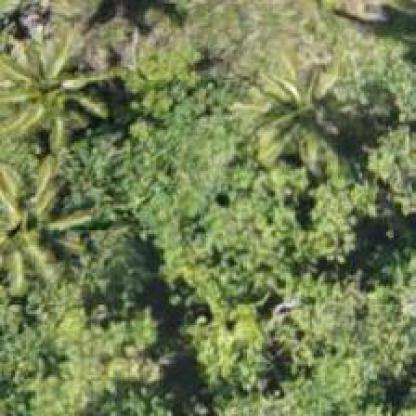coconut tree: (0, 22, 123, 151), (1, 156, 89, 303), (244, 66, 346, 159)
